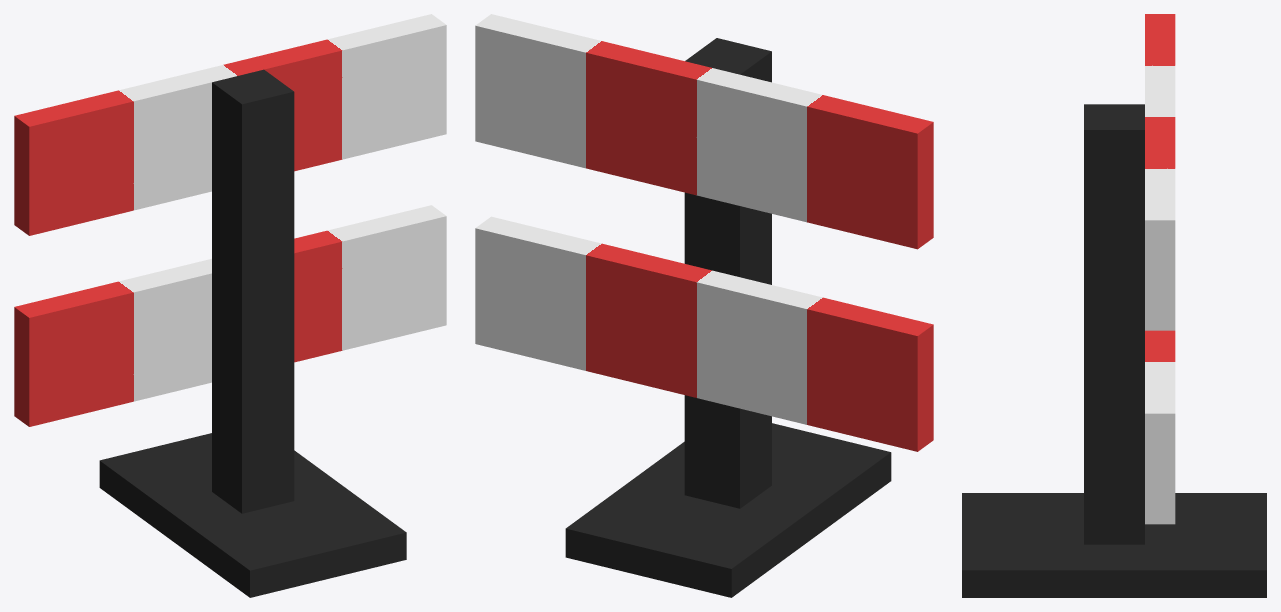
3 renders of one model, left to right at view 1: azimuth 30°, elevation 25°; view 2: azimuth 150°, elevation 25°; view 3: azimuth 270°, elevation 25°, orthographic. The views are drawn at different scales.
Visible parts, largest first — view 1: cube; view 2: cube; view 3: cube.
Boxes of the visible parts, left/top/right/bottom form: cube: left=14, top=14, right=446, bottom=597; cube: left=475, top=14, right=933, bottom=597; cube: left=962, top=14, right=1266, bottom=597.
Size of the model in its own units: 1 by 1 by 0.625.
Materials: 1 (1 with a texture image).
